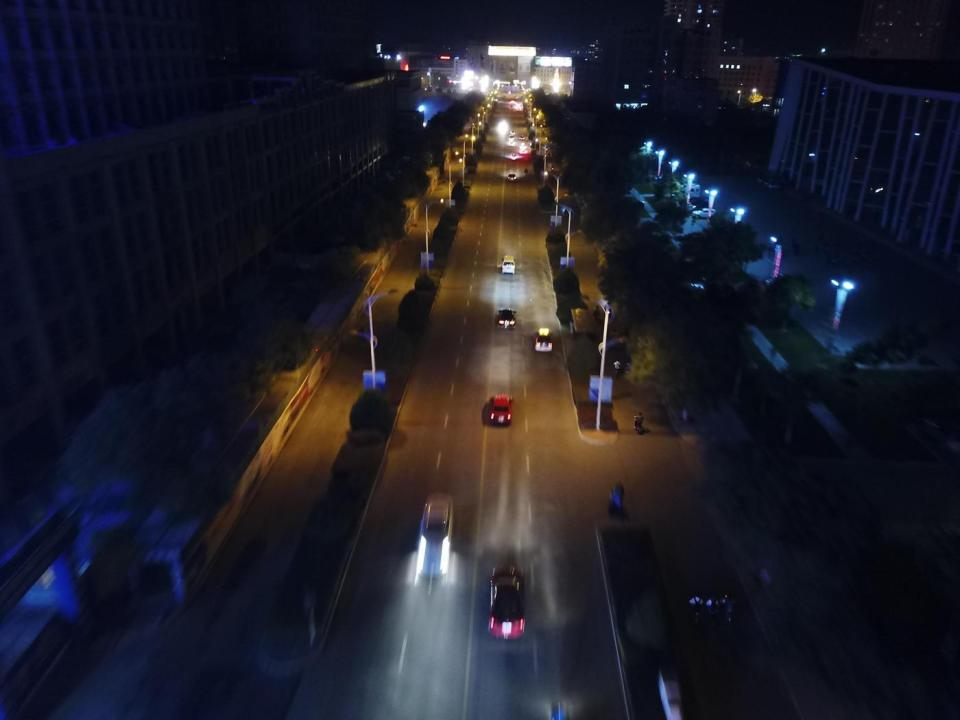bus: (756, 170, 782, 190), (470, 124, 474, 128)
car: (416, 492, 454, 580), (488, 566, 525, 638), (658, 667, 684, 720), (491, 394, 512, 423), (498, 308, 516, 327), (535, 329, 550, 351), (692, 208, 716, 217), (508, 173, 516, 180), (520, 148, 527, 154), (510, 154, 516, 160), (519, 143, 526, 148), (509, 140, 514, 144), (519, 136, 524, 140), (509, 135, 514, 139), (510, 130, 515, 134), (494, 97, 498, 101), (510, 100, 515, 103), (497, 94, 502, 97), (509, 105, 513, 108), (517, 102, 520, 106), (514, 95, 518, 98), (516, 108, 521, 110)
van: (678, 174, 700, 198), (501, 256, 515, 273)
